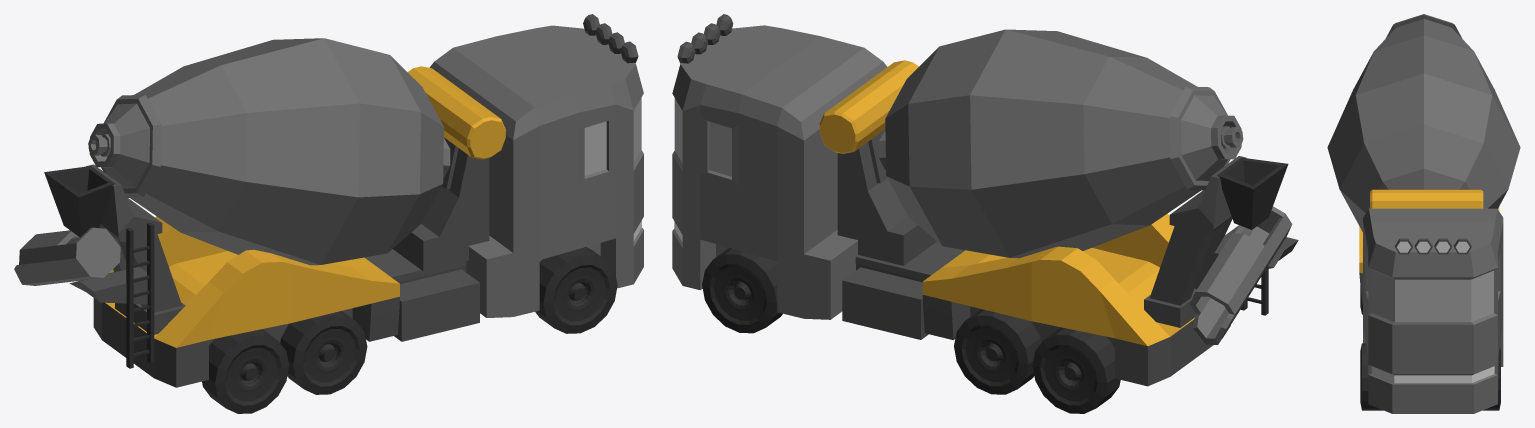
3 views of the same model, side by side, from view 1: azimuth 30°, elevation 25°; view 2: azimuth 150°, elevation 25°; view 3: azimuth 270°, elevation 25° (orthographic). The views are drawn at different scales.
Parts seen in each view (by area): view 1: B-5, Sphere, Cylinder.088, Cylinder.092, Cylinder.090, Cube.118, Cube.117, Cube.094; view 2: B-5, Sphere, Cube.118, Cylinder.089, Cylinder.091, Cylinder.093, Cube.117; view 3: B-5, Sphere, Cylinder.092, Cylinder.093.
Part boxes in pixels (left/top/right/bottom): B-5: left=69, top=14, right=643, bottom=387; Sphere: left=88, top=38, right=450, bottom=265; Cylinder.088: left=202, top=329, right=289, bottom=413; Cylinder.092: left=535, top=247, right=617, bottom=333; Cylinder.090: left=280, top=311, right=367, bottom=394; Cube.118: left=14, top=227, right=120, bottom=285; Cube.117: left=44, top=166, right=114, bottom=237; Cube.094: left=126, top=222, right=154, bottom=368; B-5: left=672, top=14, right=1298, bottom=386; Sphere: left=879, top=29, right=1243, bottom=258; Cube.118: left=1190, top=206, right=1292, bottom=344; Cylinder.089: left=1032, top=327, right=1120, bottom=413; Cylinder.091: left=954, top=309, right=1041, bottom=394; Cylinder.093: left=702, top=248, right=782, bottom=333; Cube.117: left=1217, top=157, right=1288, bottom=229; B-5: left=1359, top=189, right=1503, bottom=413; Sphere: left=1327, top=14, right=1520, bottom=231; Cylinder.092: left=1360, top=343, right=1383, bottom=410; Cylinder.093: left=1483, top=347, right=1500, bottom=410.
Bounding box in the file's own units: 3023 × 1629 × 1137.
